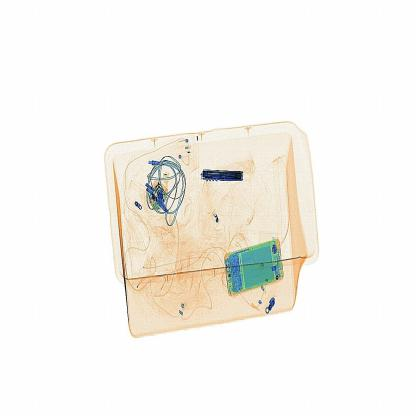scissors: (193, 165, 248, 194)
